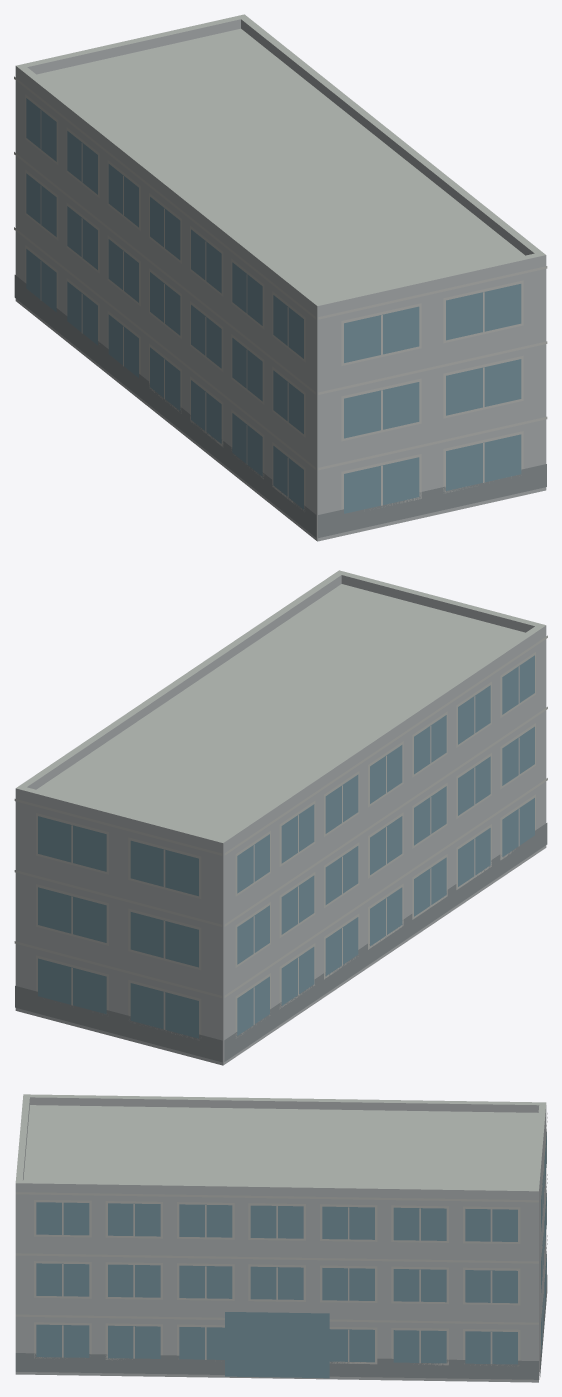
The model's file is public-1105aa73-50bb-4afa-885d-4e94d928e0f2.glb.
3 views of the same model, one above another, from view 1: azimuth 30°, elevation 25°; view 2: azimuth 150°, elevation 25°; view 3: azimuth 270°, elevation 25° (orthographic). The views are drawn at different scales.
Parts seen in each view (by area): view 1: public-1105aa73-50bb-4afa-885d-4e94d928e0f2; view 2: public-1105aa73-50bb-4afa-885d-4e94d928e0f2; view 3: public-1105aa73-50bb-4afa-885d-4e94d928e0f2.
Part boxes in pixels (box(x1,y1,x2,y2)): public-1105aa73-50bb-4afa-885d-4e94d928e0f2: box(14, 14, 547, 541); public-1105aa73-50bb-4afa-885d-4e94d928e0f2: box(14, 570, 547, 1065); public-1105aa73-50bb-4afa-885d-4e94d928e0f2: box(15, 1094, 547, 1382).
Bounding box in the file's own units: 10.9 × 9.15 × 23.15.
